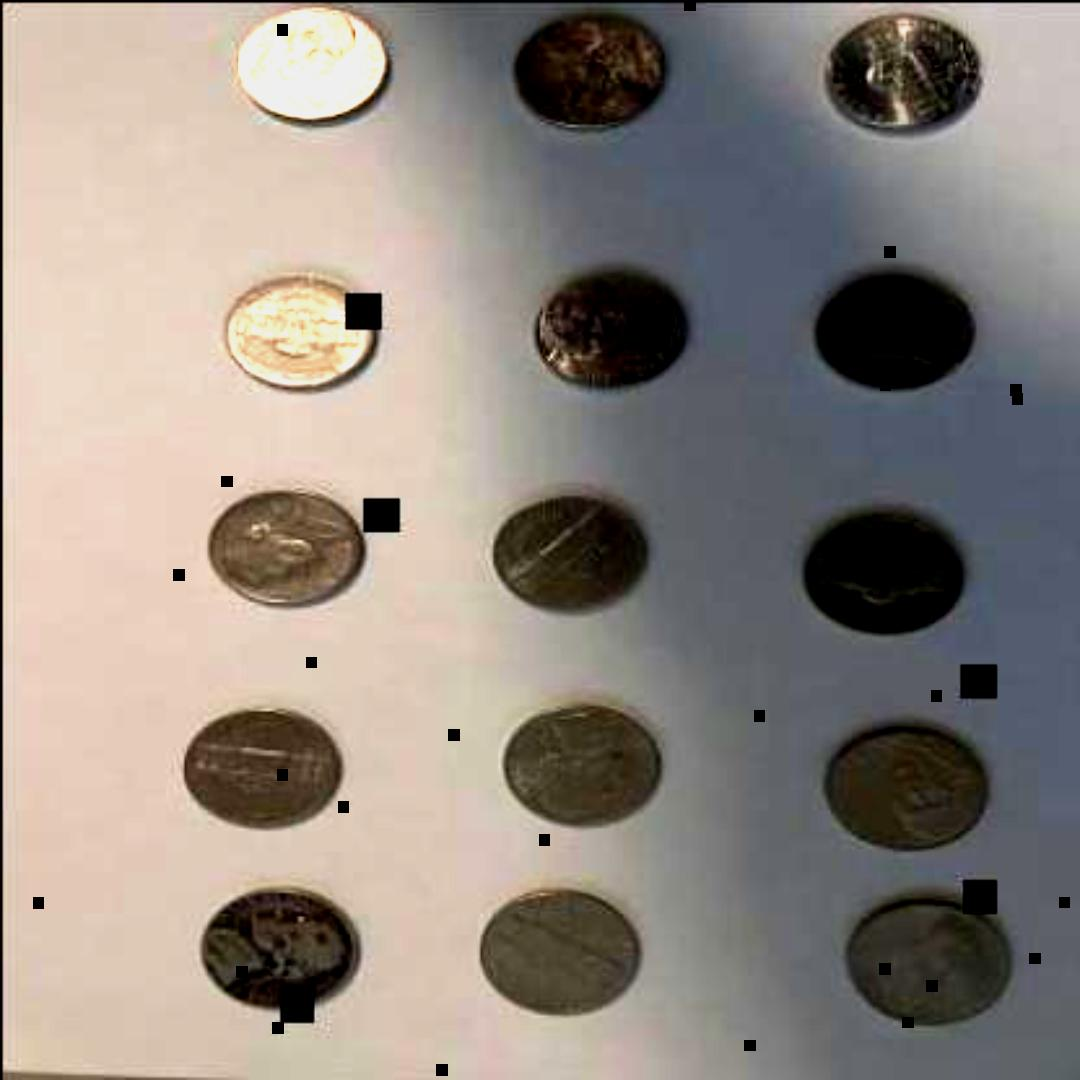Nickel: (831, 893, 1023, 1033), (470, 885, 648, 1025), (194, 878, 366, 1018), (804, 261, 976, 393), (814, 722, 988, 852), (500, 0, 674, 130), (197, 472, 363, 608), (530, 255, 690, 390), (223, 266, 386, 396), (820, 13, 980, 142), (804, 518, 970, 638), (184, 709, 344, 833), (498, 700, 658, 824), (490, 491, 650, 615), (232, 0, 386, 122)
